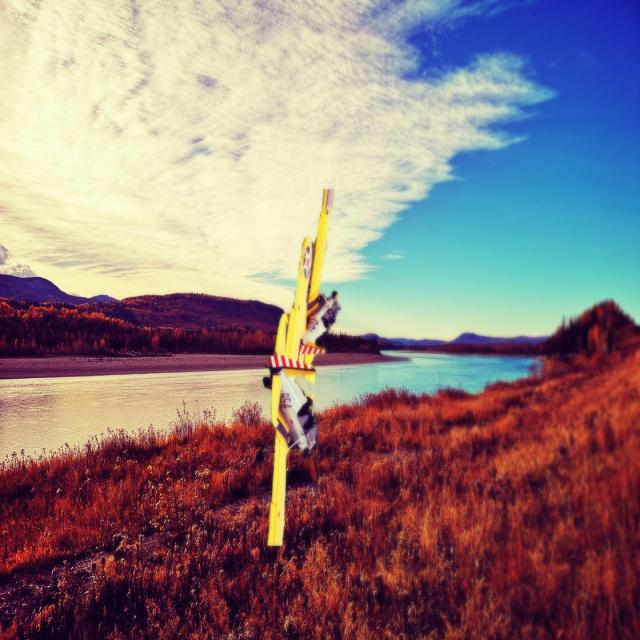airplane: (262, 186, 342, 547)
